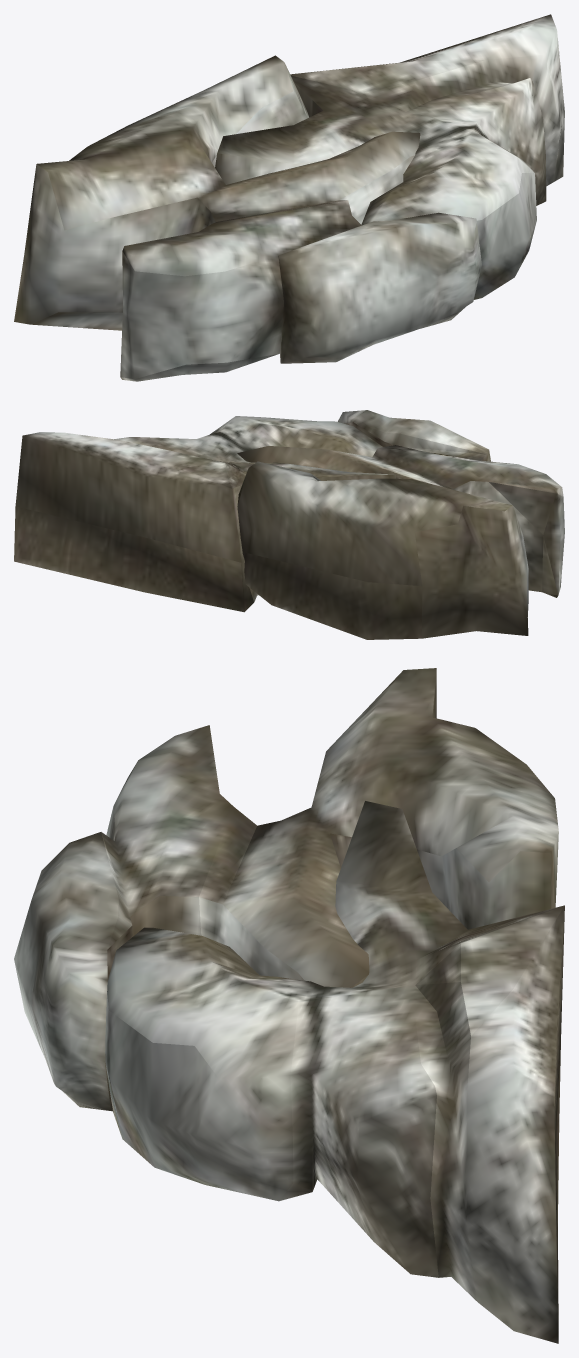
File: military_sandbag_snow_endsection_right.glb
3 views of the same model, one above another, from view 1: azimuth 30°, elevation 25°; view 2: azimuth 150°, elevation 25°; view 3: azimuth 270°, elevation 25° (orthographic). The views are drawn at different scales.
Bounding box in the file's own units: 60.03 × 18.09 × 31.99.
Materials: 1 (1 with a texture image).
